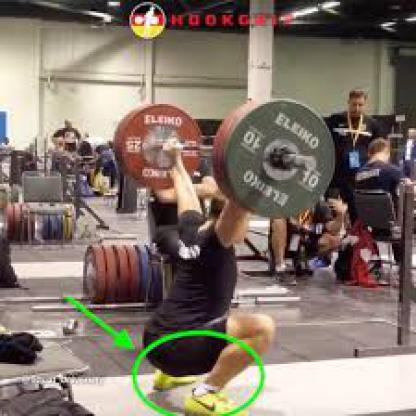Barbell: (218, 97, 337, 221)
